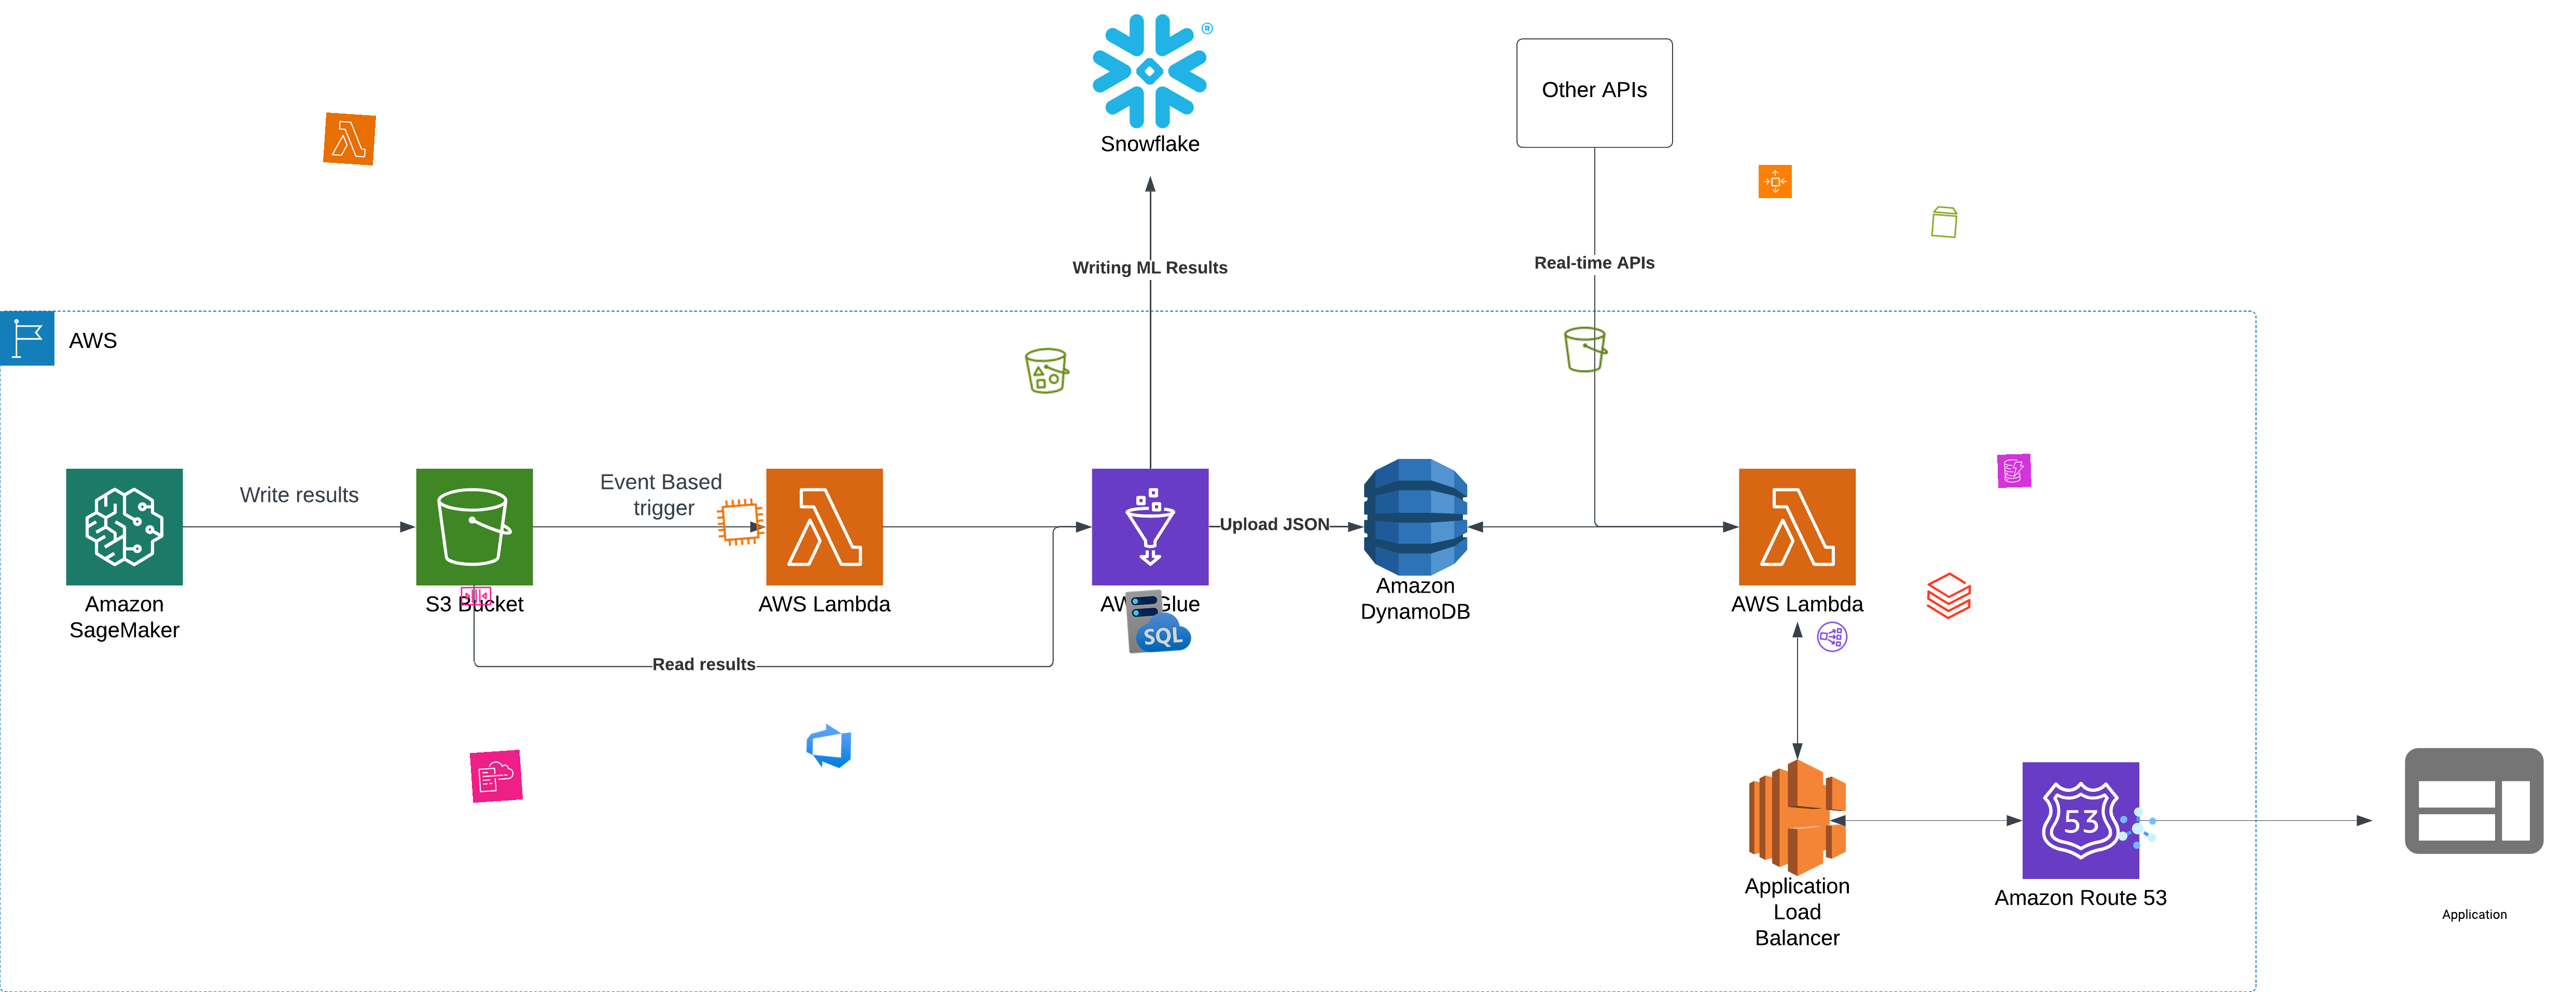aws_amazon_dynamodb: (1996, 453, 2032, 488)
aws_amazon_ec2_auto_scaling: (1758, 164, 1792, 199)
aws_cloudformation: (470, 749, 524, 803)
aws_ec2_instance: (713, 496, 767, 549)
aws_elastic_block_store_volume: (1927, 204, 1963, 240)
aws_elastic_load_balancing_network_load_balancer: (1814, 619, 1850, 655)
aws_lambda: (322, 112, 376, 166)
aws_simple_queue_service_queue: (458, 578, 493, 613)
aws_simple_storage_service_bucket_with_objects: (1022, 345, 1074, 397)
aws_simple_storage_service_s3_standard: (1561, 324, 1612, 374)
azure_databricks: (1924, 570, 1975, 622)
azure_devops: (803, 719, 854, 772)
azure_sql_managed_instance: (1122, 585, 1194, 657)
gcp_pubsub: (2111, 801, 2164, 854)
